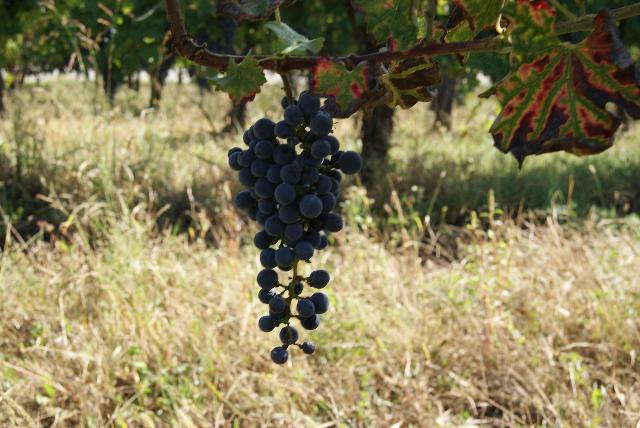grapes: (235, 100, 344, 364)
